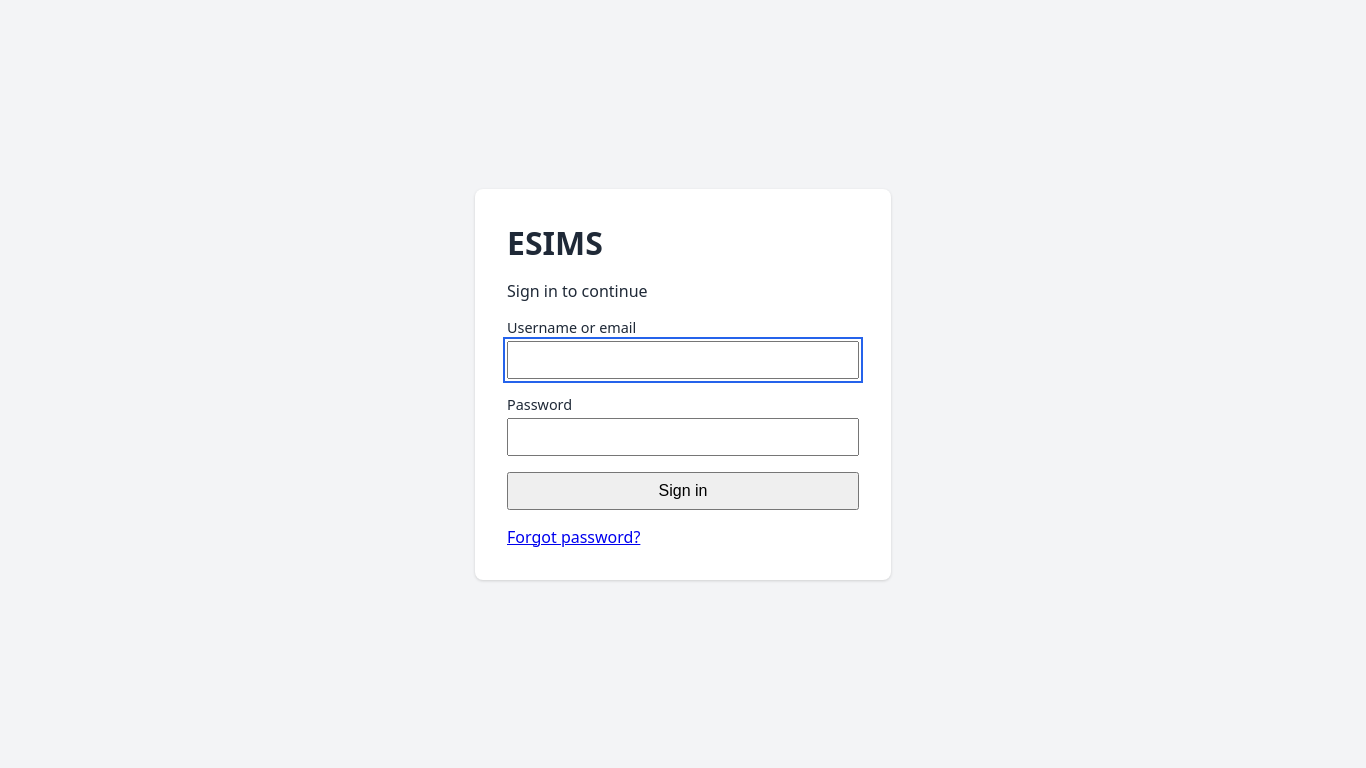
Scenario: valid credentials open the role dashboard
Type "cashier_ravi" into the field labelled "Username or email".
click(683, 360); type("cashier_ravi")  # box [507,340,859,378]
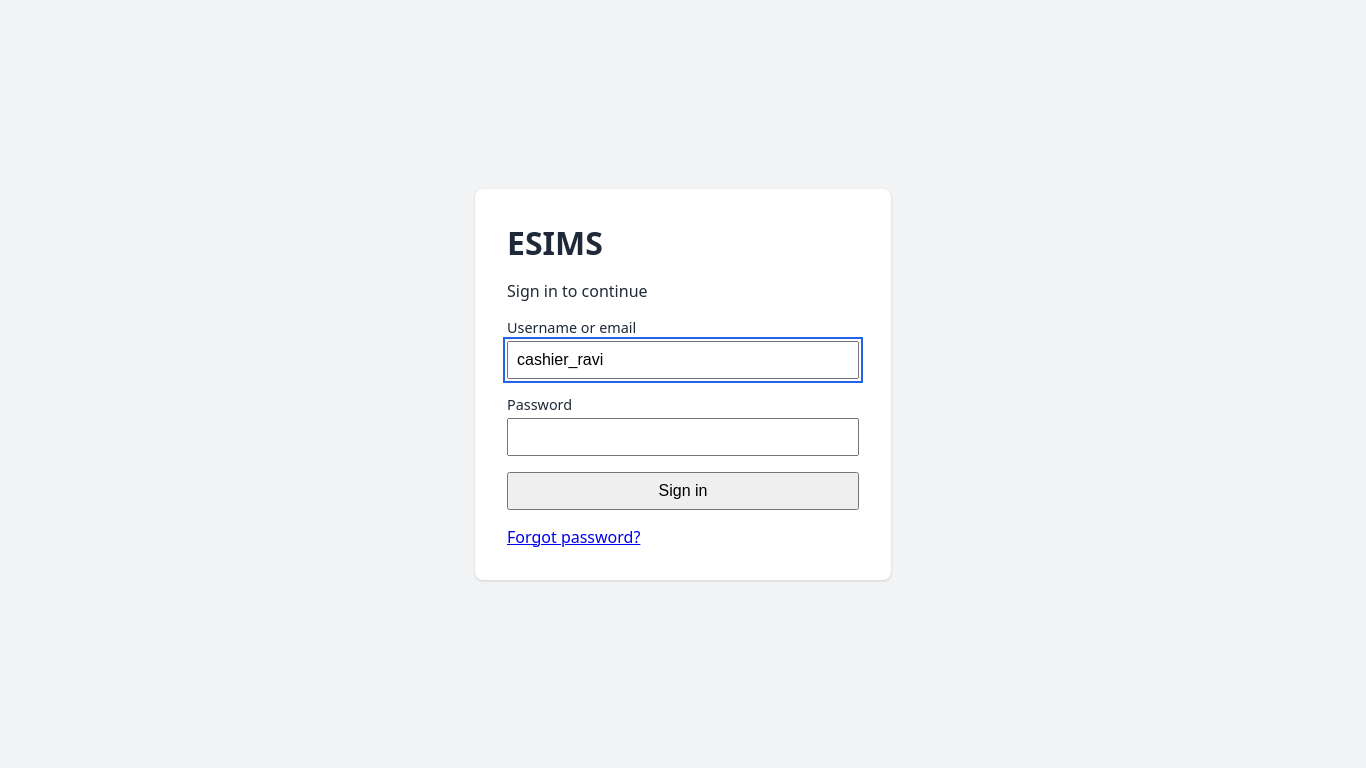
Type "right" into the password field labelled "Password".
click(683, 436); type("right")  # box [507,418,859,456]
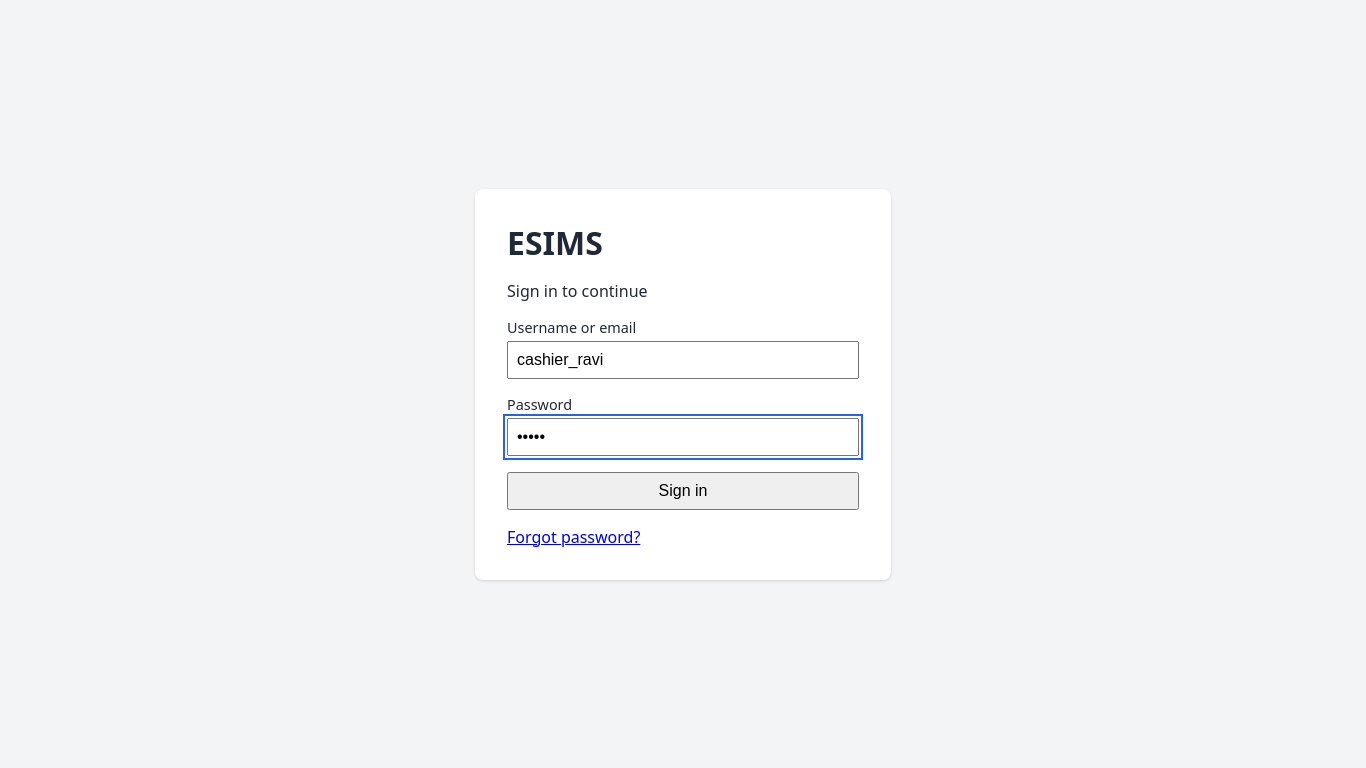
Click the button "Sign in".
click(683, 490)  # box [507,472,859,510]
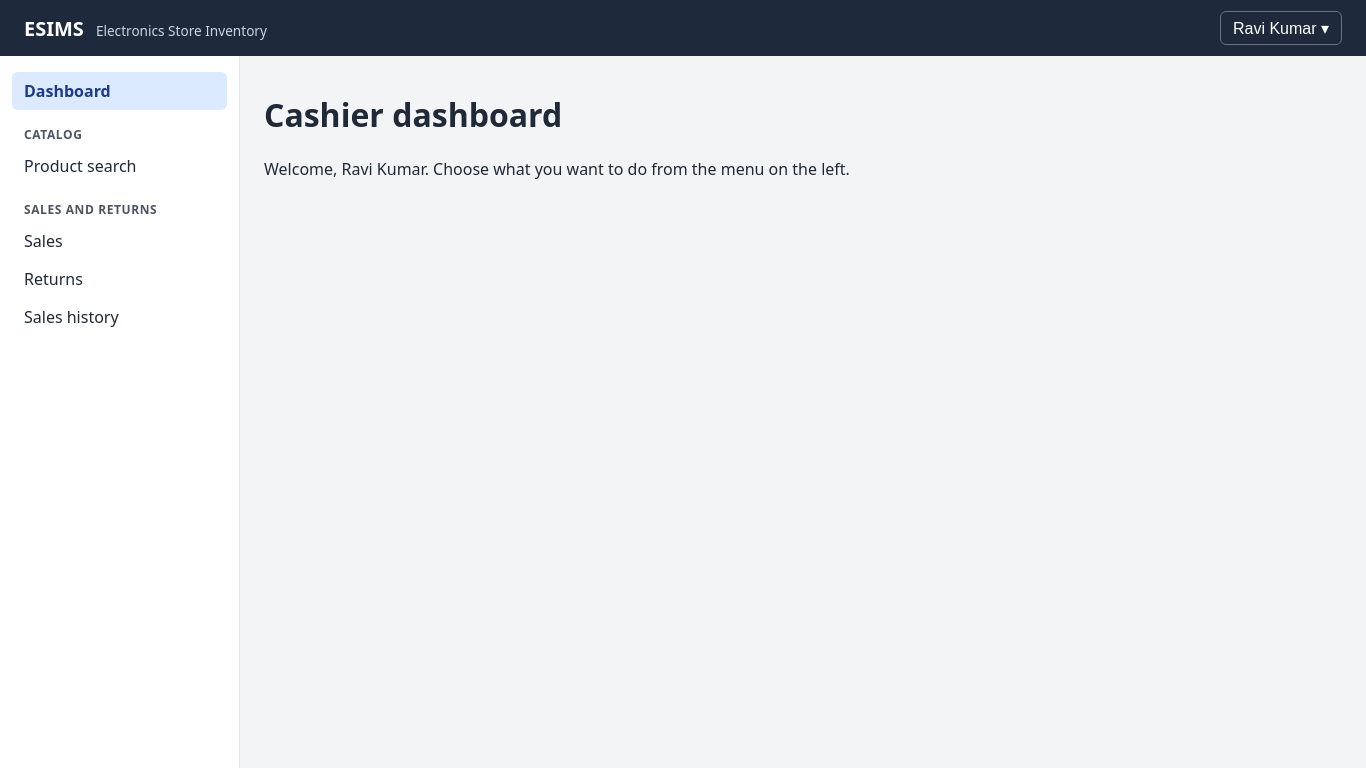
Now the heading "Cashier dashboard" is shown, box [264,93,562,136]
